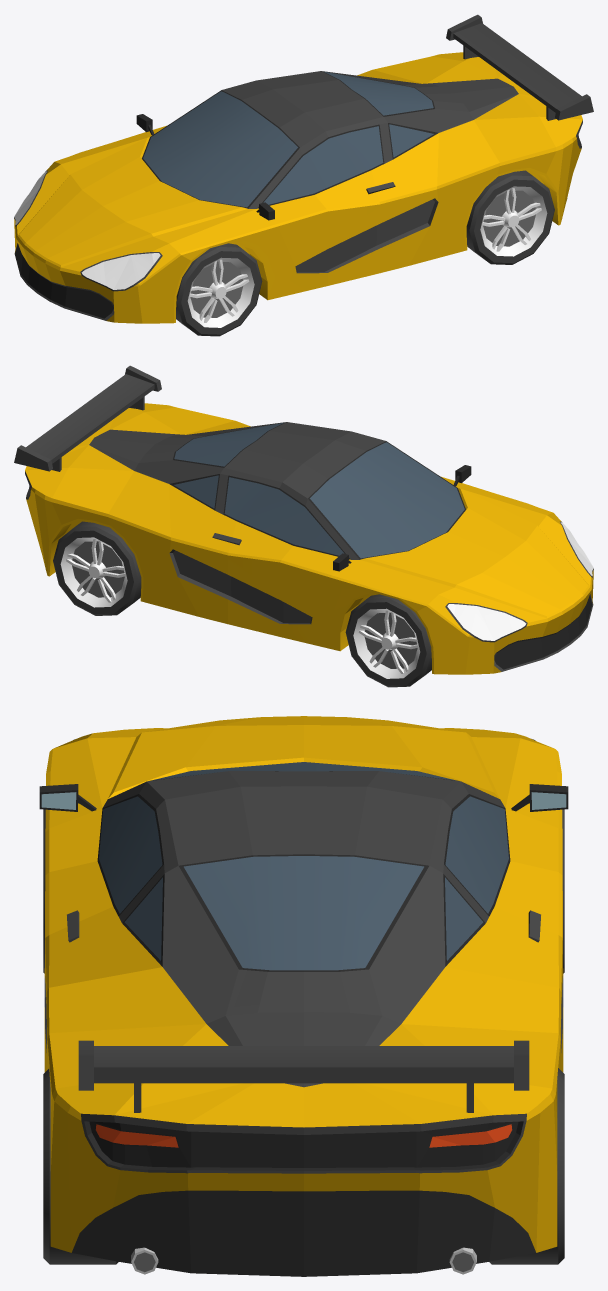
File: Sport Car_39.fbx
3 renders of one model, top to bottom at view 1: azimuth 30°, elevation 25°; view 2: azimuth 150°, elevation 25°; view 3: azimuth 270°, elevation 25°, orthographic. The views are drawn at different scales.
Parts seen in each view (by area): view 1: Sport Car_39, Sport Car_39 BL Tire, Sport Car_39 FL Tire; view 2: Sport Car_39, Sport Car_39 BR Tire, Sport Car_39 FR Tire; view 3: Sport Car_39, Sport Car_39 BR Tire, Sport Car_39 BL Tire.
Part boxes in pixels (box(x1,y1,x2,y2)): Sport Car_39: box(14, 14, 593, 323); Sport Car_39 BL Tire: box(466, 170, 554, 264); Sport Car_39 FL Tire: box(176, 243, 262, 336); Sport Car_39: box(14, 365, 593, 674); Sport Car_39 BR Tire: box(53, 521, 141, 615); Sport Car_39 FR Tire: box(345, 594, 431, 687); Sport Car_39: box(39, 716, 568, 1276); Sport Car_39 BR Tire: box(489, 1068, 564, 1264); Sport Car_39 BL Tire: box(43, 1068, 118, 1264).
Bounding box in the file's own units: 474 × 137 × 209.
